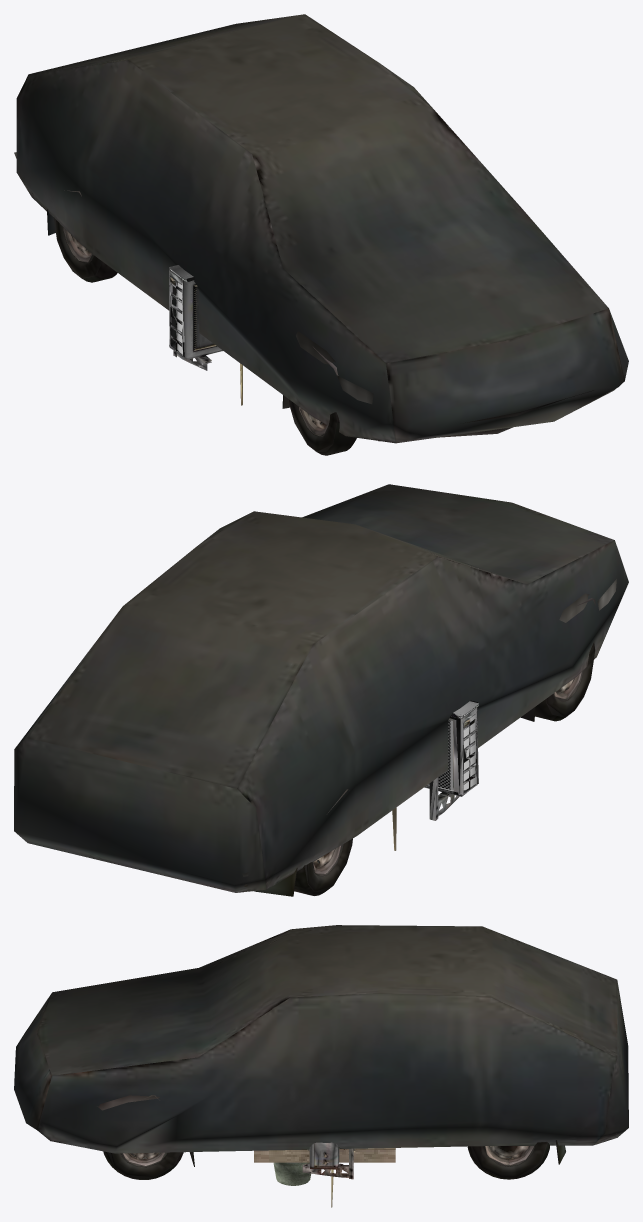
The model's file is landfill.glb.
The picture shows the model from 3 angles, top to bottom: view 1: azimuth 30°, elevation 25°; view 2: azimuth 150°, elevation 25°; view 3: azimuth 270°, elevation 25°; orthographic projection. The views are drawn at different scales.
Parts seen in each view (by area): view 1: covered_car, exterior_aircon_unit, covered_car_wheel_02, covered_car_wheel_03; view 2: covered_car, exterior_aircon_unit, covered_car_wheel_03, covered_car_wheel_02; view 3: covered_car, covered_car_wheel_04, covered_car_wheel_01, pallet, exterior_aircon_unit_rusted, security_light_glass.
Part boxes in pixels (<box>): covered_car: <box>14,14,628,443</box>; exterior_aircon_unit: <box>169,265,242,405</box>; covered_car_wheel_02: <box>288,399,356,455</box>; covered_car_wheel_03: <box>53,217,117,282</box>; covered_car: <box>14,484,628,896</box>; exterior_aircon_unit: <box>392,700,478,850</box>; covered_car_wheel_03: <box>294,838,352,895</box>; covered_car_wheel_02: <box>535,641,595,721</box>; covered_car: <box>14,925,628,1166</box>; covered_car_wheel_04: <box>467,1141,549,1179</box>; covered_car_wheel_01: <box>103,1151,183,1179</box>; pallet: <box>254,1148,395,1162</box>; exterior_aircon_unit_rusted: <box>302,1142,355,1207</box>; security_light_glass: <box>273,1162,310,1185</box>.
Bounding box in the file's own units: 1.83 × 1.73 × 4.34.
Materials: 15 (15 with a texture image).
